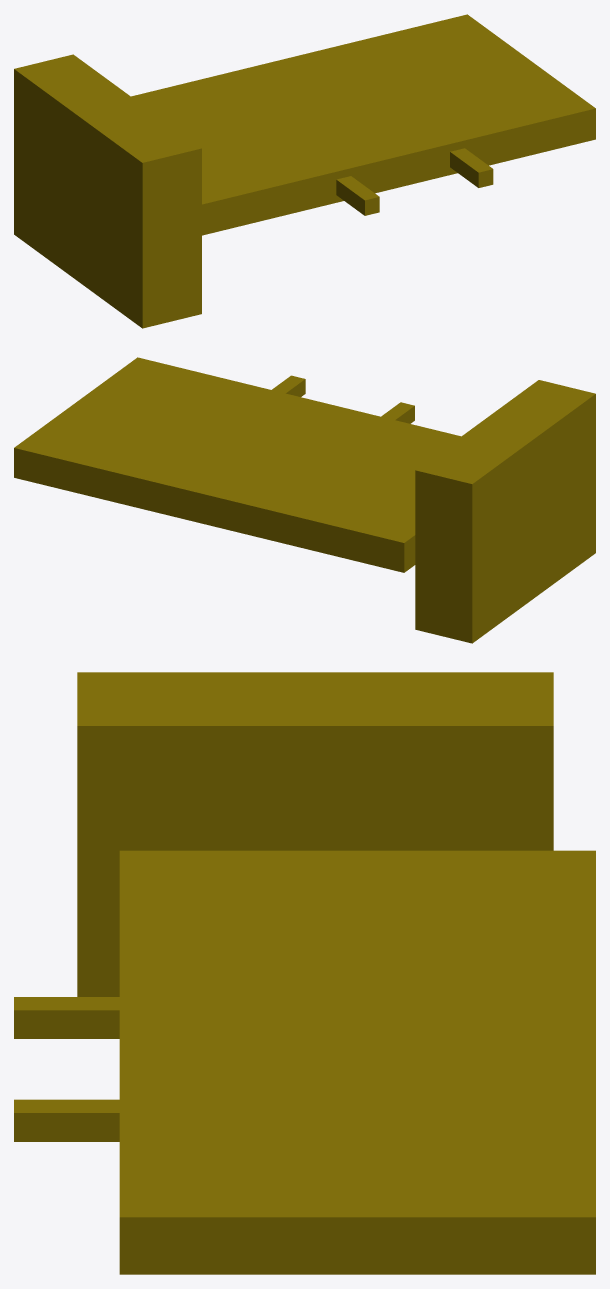
Rendered from prop-rack.glb.
The picture shows the model from 3 angles, top to bottom: view 1: azimuth 30°, elevation 25°; view 2: azimuth 150°, elevation 25°; view 3: azimuth 270°, elevation 25°; orthographic projection. The views are drawn at different scales.
Parts seen in each view (by area): view 1: samurai; view 2: samurai; view 3: samurai.
Boxes of the visible parts, <box> form: samurai: <box>14,14,595,328</box>; samurai: <box>14,357,595,643</box>; samurai: <box>14,672,595,1274</box>.
Size of the model in its own units: 0.94 by 0.32 by 0.55.
